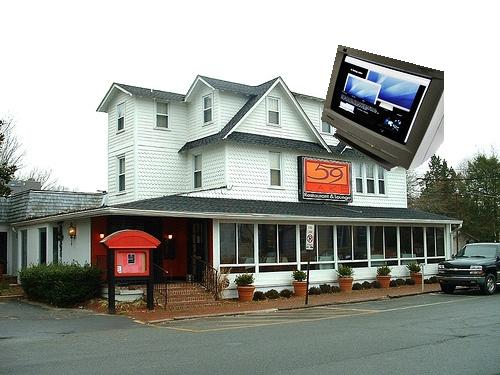tampered: (322, 46, 444, 171)
